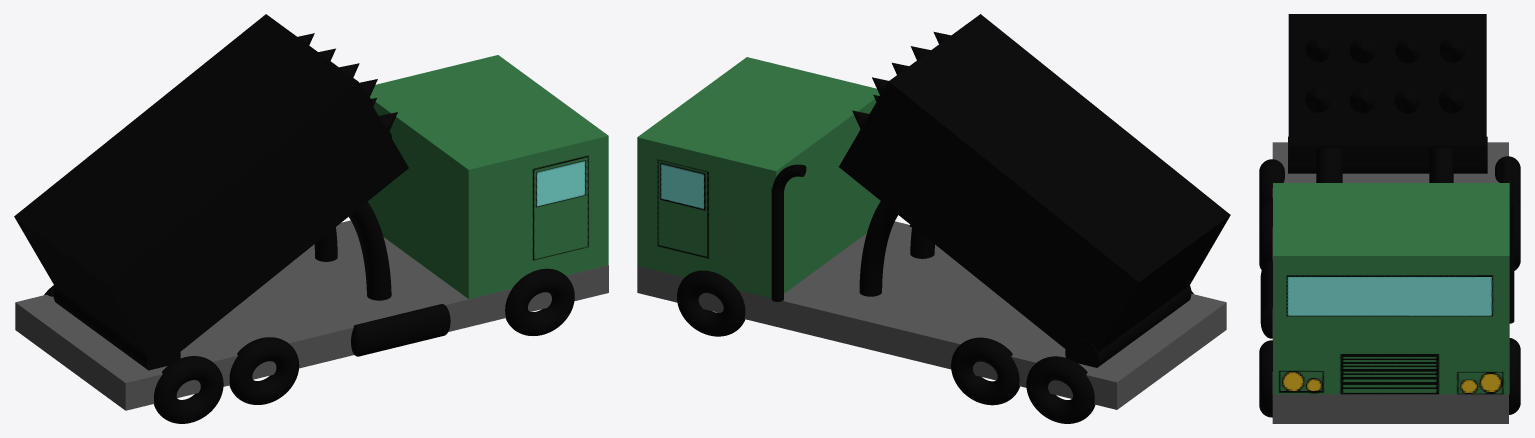
The model's file is truck.fbx.
3 renders of one model, left to right at view 1: azimuth 30°, elevation 25°; view 2: azimuth 150°, elevation 25°; view 3: azimuth 270°, elevation 25°, orthographic. The views are drawn at different scales.
Visible parts, largest first — view 1: node_id42, node_id45, node_id48, node_id102, node_id105, node_id99, node_id78, node_id85, node_id39, node_id82; view 2: node_id42, node_id45, node_id48, node_id95, node_id92, node_id89, node_id39, node_id82, node_id139, node_id85; view 3: node_id45, node_id42, node_id48, node_id39, node_id99, node_id85, node_id78, node_id102, node_id89, node_id82, node_id105, node_id139 (+20 smaller).
Boxes of the visible parts, <box> form: node_id42: <box>14,14,408,354</box>; node_id45: <box>368,55,608,298</box>; node_id48: <box>15,220,608,410</box>; node_id102: <box>229,337,299,404</box>; node_id105: <box>154,356,223,423</box>; node_id99: <box>505,268,574,335</box>; node_id78: <box>351,304,450,356</box>; node_id85: <box>349,201,391,300</box>; node_id39: <box>53,287,180,370</box>; node_id82: <box>314,227,337,261</box>; node_id42: <box>839,14,1230,352</box>; node_id45: <box>637,57,880,298</box>; node_id48: <box>637,221,1226,409</box>; node_id95: <box>1026,356,1095,423</box>; node_id92: <box>951,337,1019,405</box>; node_id89: <box>677,270,745,336</box>; node_id39: <box>1065,285,1191,367</box>; node_id82: <box>859,201,897,296</box>; node_id139: <box>771,188,783,301</box>; node_id85: <box>910,226,934,258</box>; node_id45: <box>1273,183,1509,394</box>; node_id42: <box>1288,14,1486,163</box>; node_id48: <box>1272,142,1508,423</box>; node_id39: <box>1288,136,1487,173</box>; node_id99: <box>1259,340,1272,417</box>; node_id85: <box>1316,148,1342,182</box>; node_id78: <box>1260,260,1272,338</box>; node_id102: <box>1259,198,1272,269</box>; node_id89: <box>1509,338,1520,414</box>; node_id82: <box>1429,148,1453,182</box>; node_id105: <box>1259,159,1284,208</box>; node_id139: <box>1509,201,1514,323</box>.
Bounding box in the file's own units: 0.512 × 0.288 × 0.2192.
32 materials, 32 textured.
